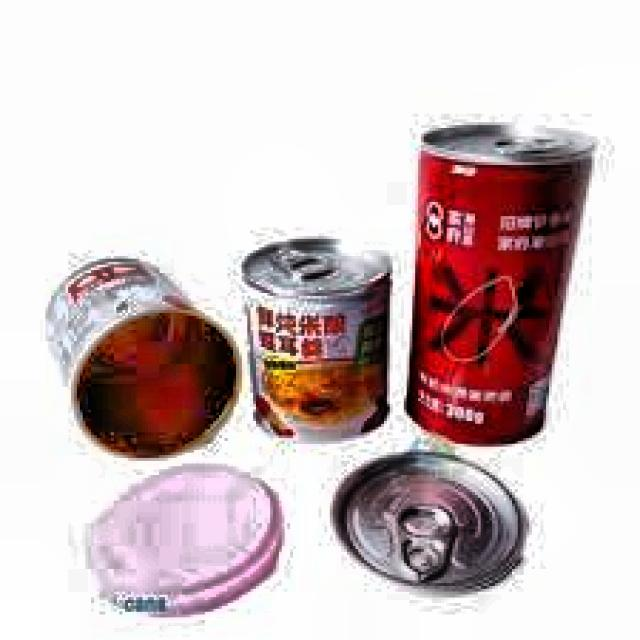can: (398, 112, 604, 456), (37, 248, 251, 464), (237, 230, 406, 446), (328, 448, 536, 608)
